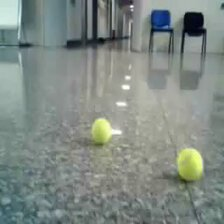tennis: (176, 148, 203, 180), (91, 117, 111, 144)
